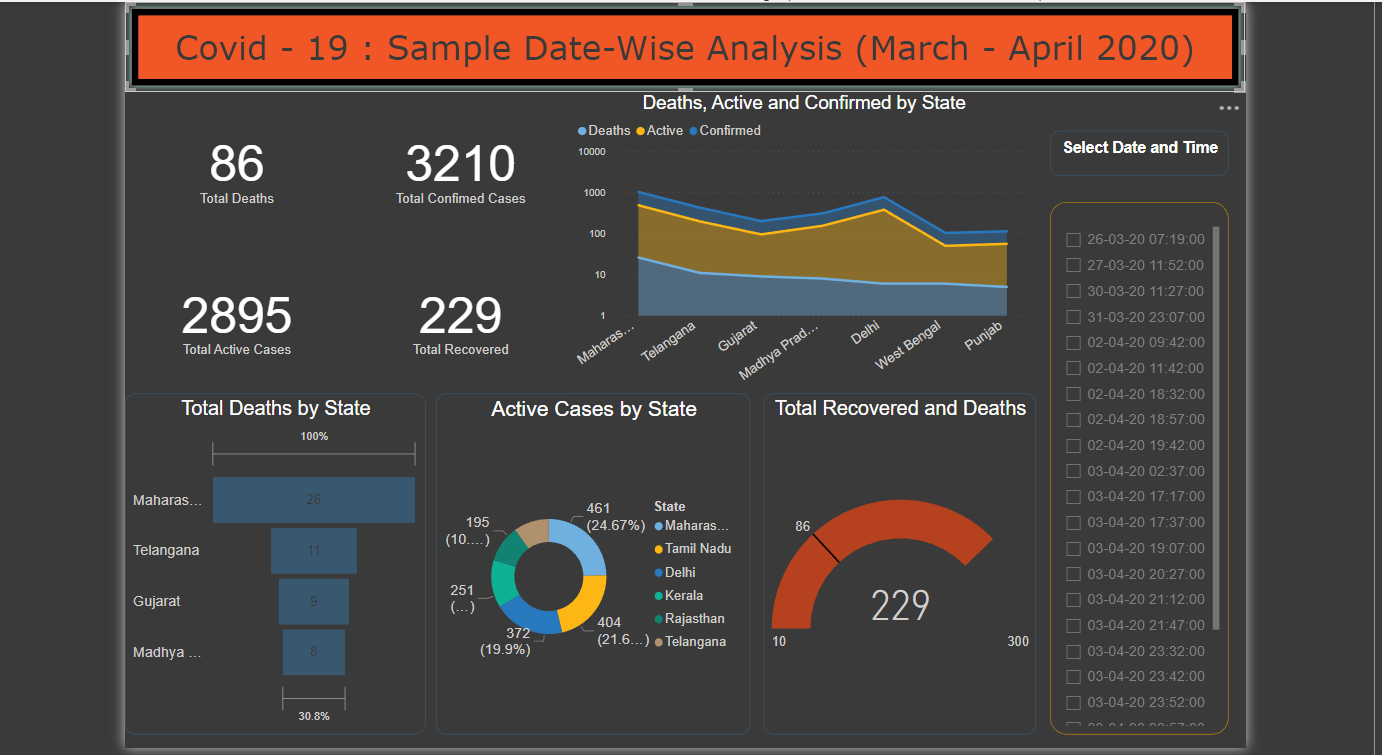

The page's visual inventory and layout, read from the dashboard file:
{"tool":"powerbi","page":{"name":"Page 1","canvas":[1350,899],"ordinal":0},"visuals":[{"type":"shape","box":[0,0,1349.3,108.4],"z":0},{"type":"card","fields":{"Values":["StateWiseData.Total Deaths"]},"box":[0,108.7,269.9,181.1],"z":1000},{"type":"card","fields":{"Values":["StateWiseData.Total Confimed Cases"]},"box":[269.9,108.7,269.9,181.1],"z":2000},{"type":"funnel","fields":{"Category":["StateWiseData.State"],"Y":["StateWiseData.Total Deaths"]},"box":[0,470.9,362.3,411.2],"z":3000},{"type":"slicer","fields":{"Values":["StateWiseData.Last_Updated_Time"]},"box":[1114,240.9,215.5,641.2],"z":4000},{"type":"textbox","box":[1114,155.8,215.5,54.3],"z":5000},{"type":"donutChart","title":"Active Cases by State","fields":{"Category":["StateWiseData.State"],"Y":["Sum(StateWiseData.Active)"]},"box":[374.9,470.9,378.6,411.2],"z":6000},{"type":"stackedAreaChart","fields":{"Category":["StateWiseData.State"],"Y":["Sum(StateWiseData.Deaths)","Sum(StateWiseData.Active)","Sum(StateWiseData.Confirmed)"]},"box":[539.8,108.7,557.9,362.3],"z":7000},{"type":"card","fields":{"Values":["StateWiseData.Total Active Cases"]},"box":[0,290,270,181],"z":8000},{"type":"card","fields":{"Values":["StateWiseData.Total Recovered"]},"box":[270,290,270,181],"z":9000},{"type":"gauge","fields":{"Y":["StateWiseData.Total Recovered"],"TargetValue":["Sum(StateWiseData.Deaths)"]},"box":[769.8,470.9,327.8,411.2],"z":10000}]}

Visuals, with their boxes on the page's 1350x899 design canvas (x1, y1, x2, y2). These are canvas units, not pixel positions in the 1382x755 screenshot, which may show the page scaled, cropped or inside an application window:
shape: {"x1": 0, "y1": 0, "x2": 1349, "y2": 108}
card - StateWiseData.Total Deaths: {"x1": 0, "y1": 109, "x2": 270, "y2": 290}
card - StateWiseData.Total Confimed Cases: {"x1": 270, "y1": 109, "x2": 540, "y2": 290}
funnel - StateWiseData.State x StateWiseData.Total Deaths: {"x1": 0, "y1": 471, "x2": 362, "y2": 882}
slicer - StateWiseData.Last_Updated_Time: {"x1": 1114, "y1": 241, "x2": 1330, "y2": 882}
textbox: {"x1": 1114, "y1": 156, "x2": 1330, "y2": 210}
"Active Cases by State" donutChart: {"x1": 375, "y1": 471, "x2": 754, "y2": 882}
stackedAreaChart - StateWiseData.State x Sum(StateWiseData.Deaths): {"x1": 540, "y1": 109, "x2": 1098, "y2": 471}
card - StateWiseData.Total Active Cases: {"x1": 0, "y1": 290, "x2": 270, "y2": 471}
card - StateWiseData.Total Recovered: {"x1": 270, "y1": 290, "x2": 540, "y2": 471}
gauge - StateWiseData.Total Recovered x Sum(StateWiseData.Deaths): {"x1": 770, "y1": 471, "x2": 1098, "y2": 882}
